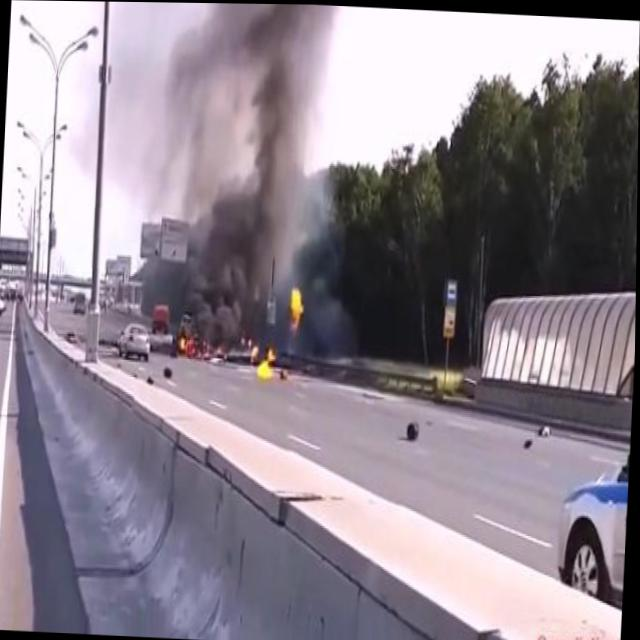fire: (251, 341, 279, 381), (287, 281, 308, 333), (177, 333, 212, 361)
